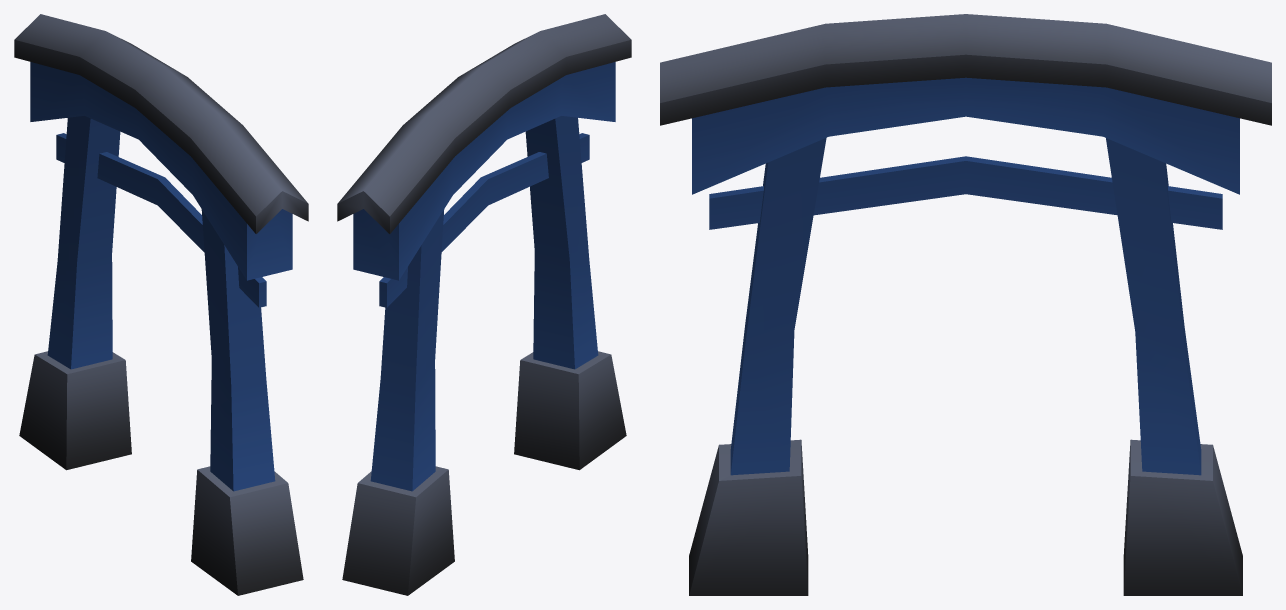
The model's file is m_toriigatePortal2.fbx.
3 renders of one model, left to right at view 1: azimuth 30°, elevation 25°; view 2: azimuth 150°, elevation 25°; view 3: azimuth 270°, elevation 25°, orthographic. The views are drawn at different scales.
Visible parts, largest first — view 1: ToriiGatePortal; view 2: ToriiGatePortal; view 3: ToriiGatePortal.
Part boxes in pixels (x1,y1,x2,y2): ToriiGatePortal: [14, 14, 308, 595]; ToriiGatePortal: [337, 14, 631, 595]; ToriiGatePortal: [660, 14, 1271, 595].
Size of the model in its own units: 27.82 by 180 by 178.
